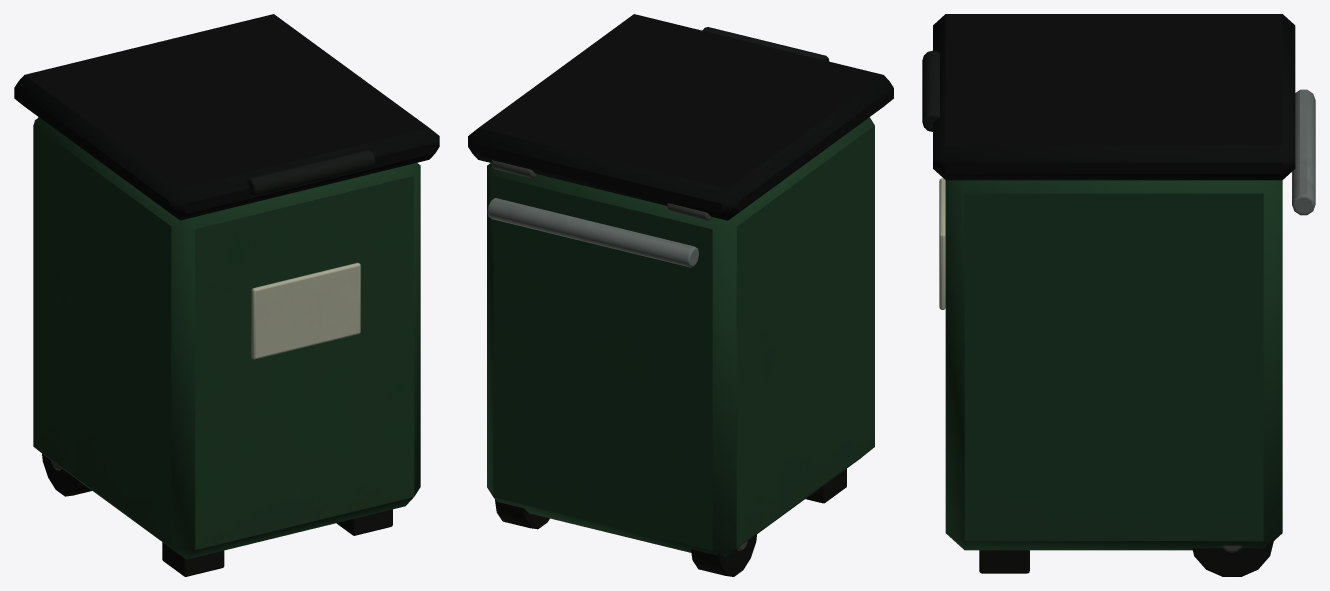
File: level_camp_refuse_bin_authored.glb
3 views of the same model, side by side, from view 1: azimuth 30°, elevation 25°; view 2: azimuth 150°, elevation 25°; view 3: azimuth 270°, elevation 25° (orthographic). The views are drawn at different scales.
Parts seen in each view (by area): view 1: level_camp_refuse_bin_authored; view 2: level_camp_refuse_bin_authored; view 3: level_camp_refuse_bin_authored.
Boxes of the visible parts, x1,y1,x2,y2 form: level_camp_refuse_bin_authored: (14, 14, 439, 576); level_camp_refuse_bin_authored: (468, 14, 893, 576); level_camp_refuse_bin_authored: (922, 14, 1315, 576).
Bounding box in the file's own units: 0.8 × 1.15 × 0.933.
1 material, 1 textured.
